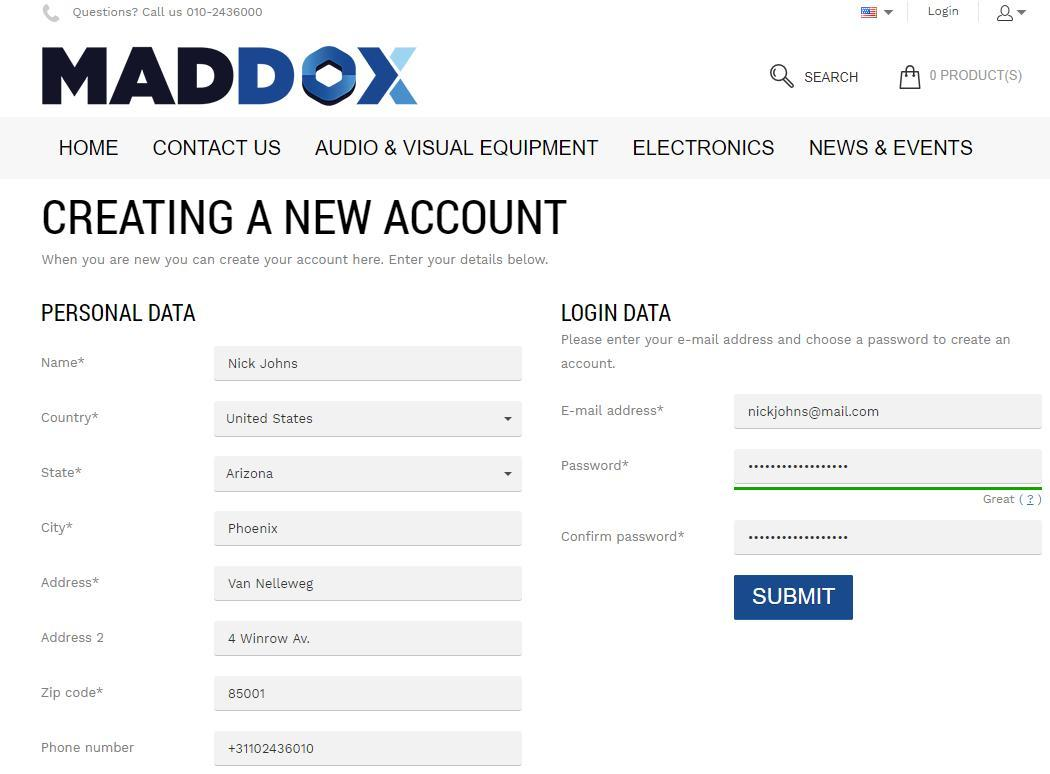button: (733, 574, 854, 621), (907, 1, 980, 26)
dropdown: (214, 457, 523, 495), (213, 403, 521, 437), (981, 2, 1050, 26)
icon: (767, 64, 799, 93), (897, 64, 923, 94)
input: (214, 510, 522, 548), (733, 397, 1040, 435), (734, 522, 1043, 558), (212, 676, 521, 711), (216, 347, 523, 382), (214, 622, 521, 657), (216, 568, 522, 601), (216, 735, 523, 767), (734, 454, 1041, 486)
label: (42, 192, 566, 245), (315, 136, 598, 160), (38, 297, 203, 332), (808, 139, 978, 162), (632, 136, 776, 163), (559, 524, 692, 550), (553, 301, 683, 326), (149, 139, 286, 162), (558, 401, 671, 423), (28, 622, 110, 650), (928, 65, 1025, 87), (43, 737, 137, 758), (562, 453, 636, 479), (43, 569, 105, 596), (41, 351, 100, 378), (55, 138, 127, 160), (41, 684, 107, 704), (40, 457, 87, 483), (802, 68, 862, 88), (41, 413, 105, 431), (41, 518, 82, 540)
